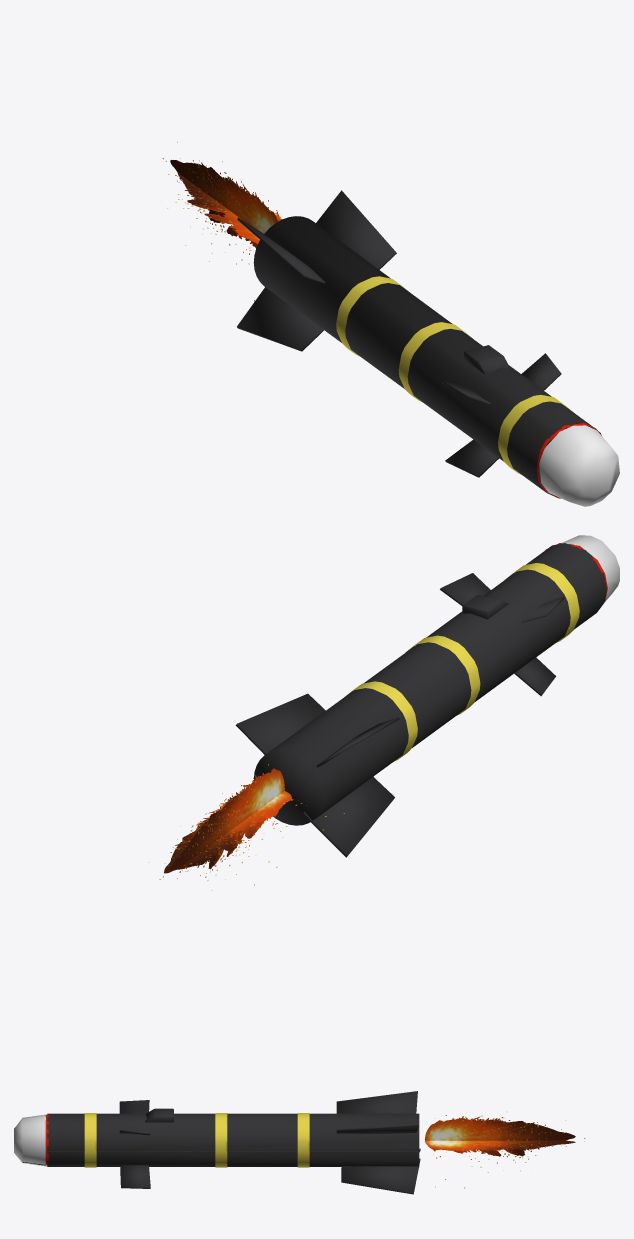
The model's file is Rocket.fbx.
3 views of the same model, one above another, from view 1: azimuth 30°, elevation 25°; view 2: azimuth 150°, elevation 25°; view 3: azimuth 270°, elevation 25° (orthographic). The views are drawn at different scales.
Parts seen in each view (by area): view 1: Plane.002; view 2: Plane.002; view 3: Plane.002.
Part boxes in pixels (bbox=[...]): Plane.002: bbox=[162, 142, 619, 506]; Plane.002: bbox=[148, 535, 619, 890]; Plane.002: bbox=[14, 1091, 585, 1194].
Size of the model in its own units: 0.2309 by 0.2309 by 0.7517.
